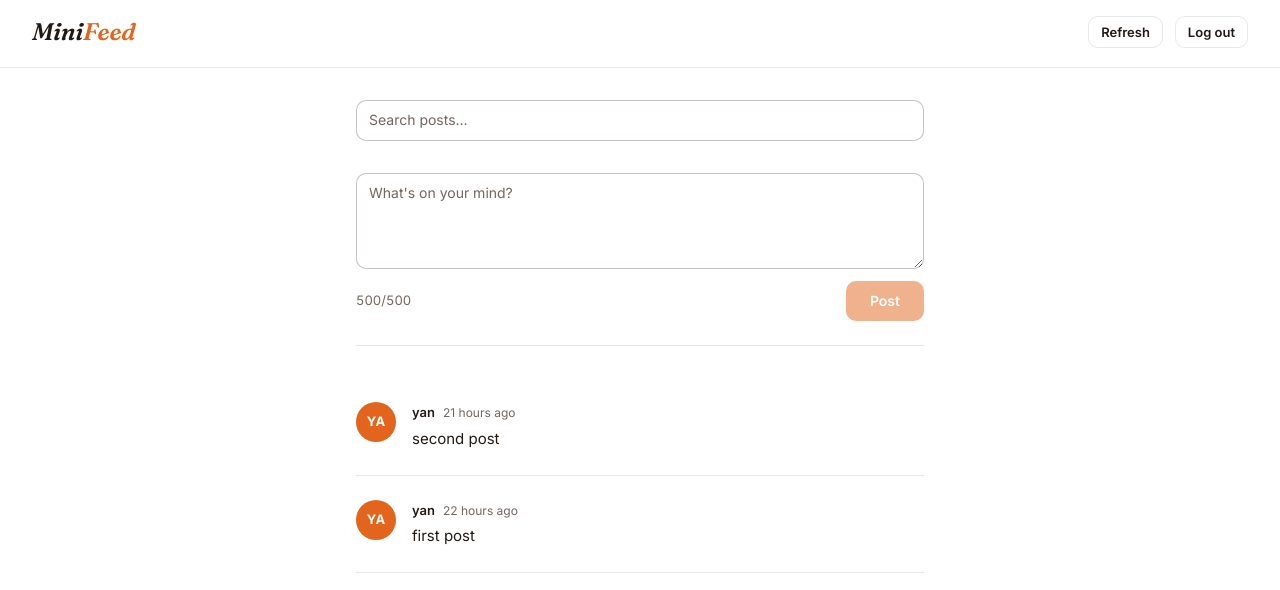
Test case: FeedPage › shows a search-specific empty state when nothing matches
expect the text "second post" is shown: met, box [412, 429, 500, 448]
Type "zzz" into the search field with placeholder "Search posts…" at [640, 121], box [356, 100, 924, 141]
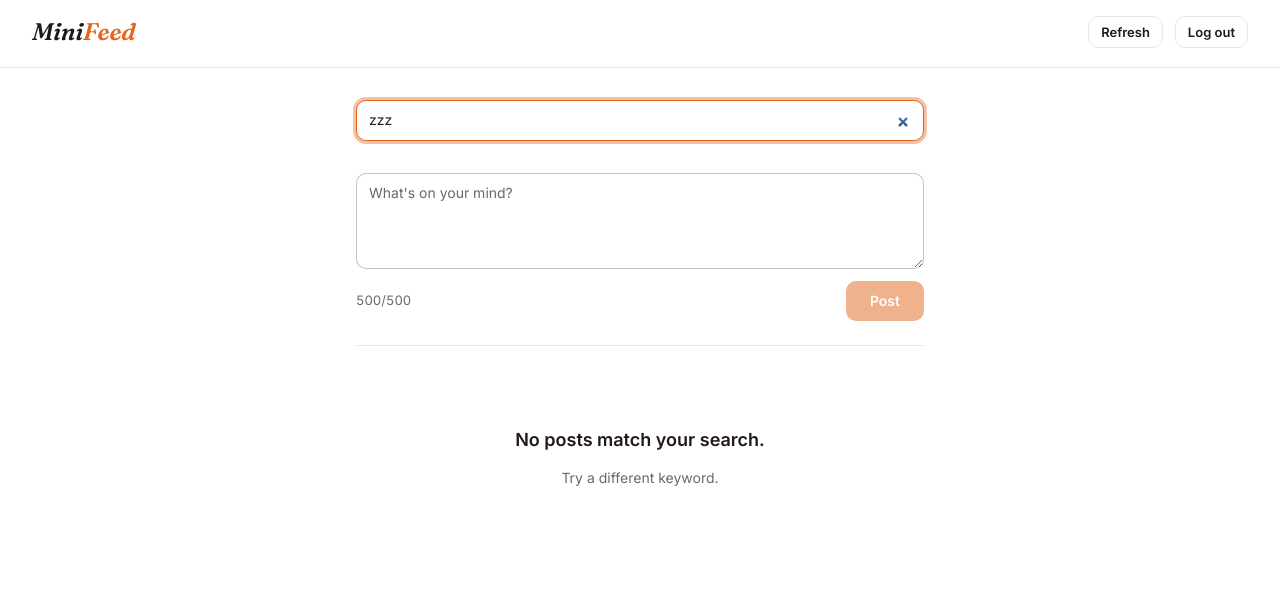
expect the heading "No posts match your search." is shown: met, box [515, 426, 765, 455]
